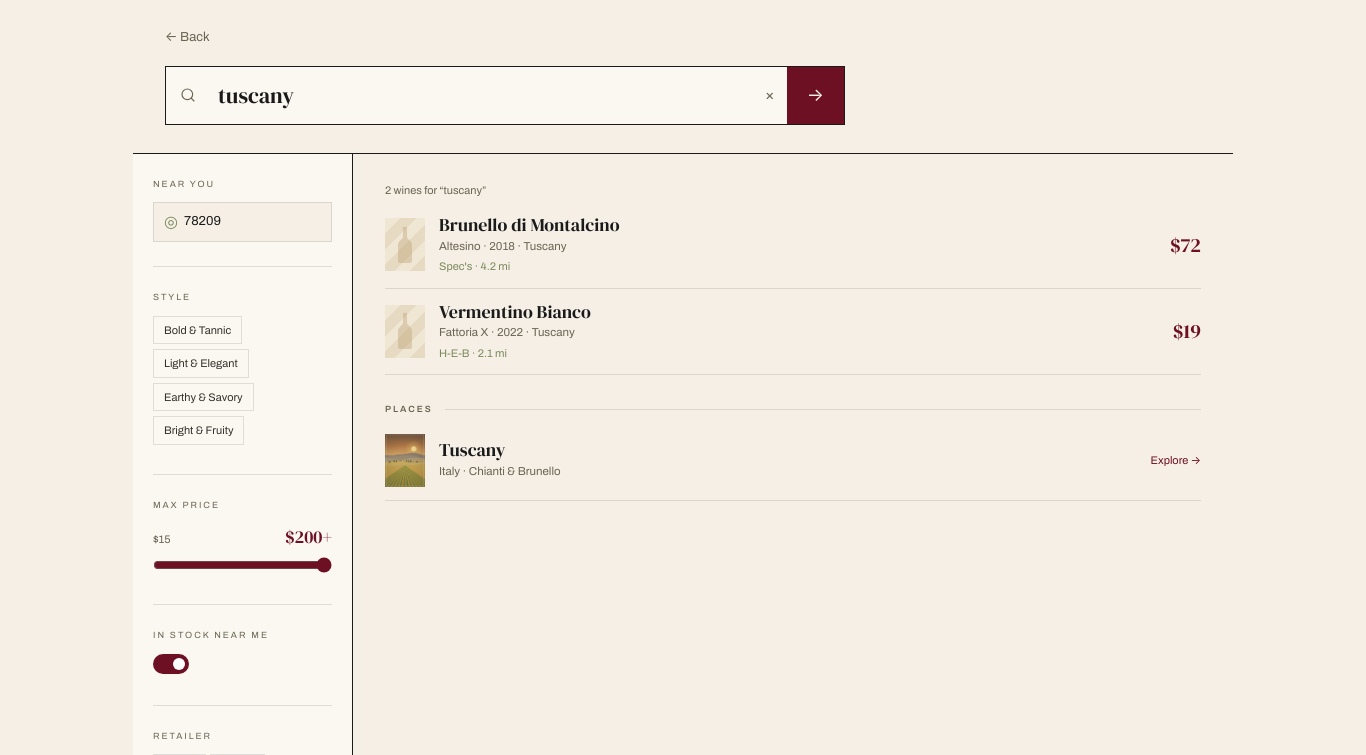
style chip filters by wine type client-side
Expected: the text "Vermentino Bianco" is shown, [439,298,591,324]
Step 1. Click the button "Bold & Tannic" → (198, 330), box [153,316,242,344]
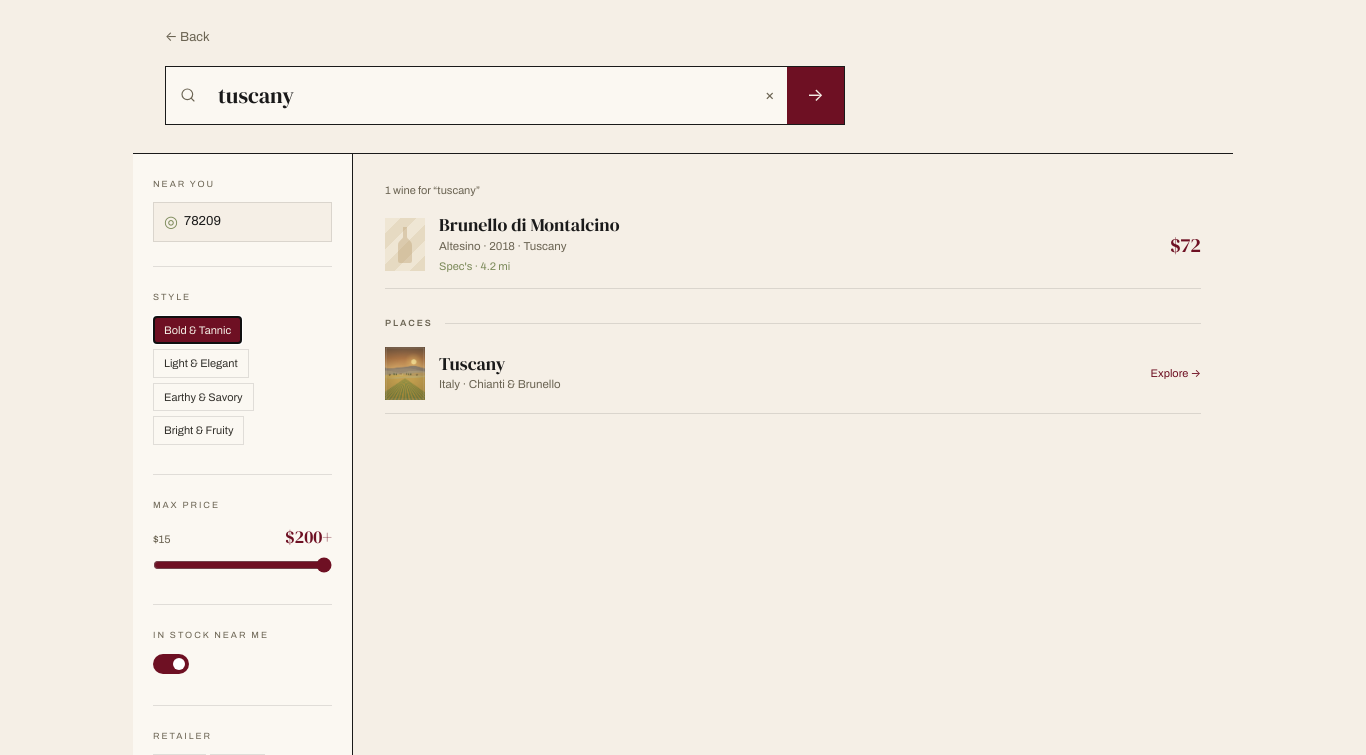
Expected: the text "Brunello di Montalcino" is shown, [439,212,620,237]
Expected: the text "Vermentino Bianco" is gone
